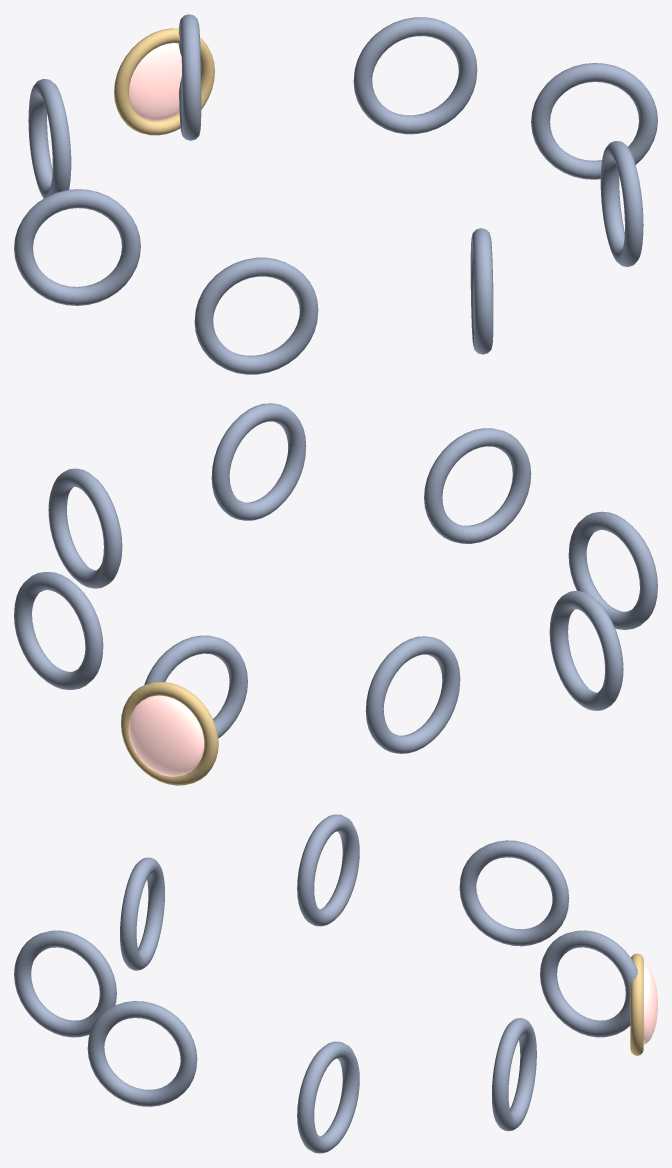
The model's file is chains.glb.
3 renders of one model, top to bottom at view 1: azimuth 30°, elevation 25°; view 2: azimuth 150°, elevation 25°; view 3: azimuth 270°, elevation 25°, orthographic. The views are drawn at different scales.
Visible parts, largest first — view 1: _MeshInstance3D_30, _MeshInstance3D_29, _MeshInstance3D_33, FloatingLink, _MeshInstance3D_27, _MeshInstance3D_31, GoldBezel, EnamelGem, _MeshInstance3D_28, _MeshInstance3D_32; view 2: _MeshInstance3D_28, _MeshInstance3D_31, _MeshInstance3D_27, _MeshInstance3D_33, EnamelGem, FloatingLink, _MeshInstance3D_30, _MeshInstance3D_29, _MeshInstance3D_32, GoldBezel; view 3: _MeshInstance3D_27, _MeshInstance3D_31, _MeshInstance3D_28, _MeshInstance3D_32, _MeshInstance3D_30, FloatingLink, _MeshInstance3D_29, _MeshInstance3D_33, GoldBezel, EnamelGem.
Part boxes in pixels (x1=…): _MeshInstance3D_30: x1=14, y1=189, x2=140, y2=305; _MeshInstance3D_29: x1=194, y1=257, x2=318, y2=374; _MeshInstance3D_33: x1=353, y1=17, x2=477, y2=134; FloatingLink: x1=531, y1=63, x2=657, y2=179; _MeshInstance3D_27: x1=600, y1=141, x2=643, y2=266; _MeshInstance3D_31: x1=28, y1=79, x2=71, y2=198; GoldBezel: x1=114, y1=28, x2=214, y2=135; EnamelGem: x1=129, y1=43, x2=181, y2=120; _MeshInstance3D_28: x1=470, y1=228, x2=493, y2=354; _MeshInstance3D_32: x1=178, y1=14, x2=201, y2=140; _MeshInstance3D_28: x1=424, y1=428, x2=531, y2=543; _MeshInstance3D_31: x1=365, y1=636, x2=460, y2=753; _MeshInstance3D_27: x1=211, y1=403, x2=306, y2=520; _MeshInstance3D_33: x1=14, y1=572, x2=103, y2=689; EnamelGem: x1=128, y1=695, x2=204, y2=776; FloatingLink: x1=48, y1=468, x2=122, y2=588; _MeshInstance3D_30: x1=549, y1=591, x2=623, y2=710; _MeshInstance3D_29: x1=568, y1=511, x2=657, y2=629; _MeshInstance3D_32: x1=144, y1=635, x2=247, y2=738; GoldBezel: x1=121, y1=682, x2=218, y2=785; _MeshInstance3D_27: x1=87, y1=1001, x2=197, y2=1106; _MeshInstance3D_31: x1=459, y1=840, x2=569, y2=946; _MeshInstance3D_28: x1=14, y1=930, x2=116, y2=1037; _MeshInstance3D_32: x1=540, y1=930, x2=637, y2=1037; _MeshInstance3D_30: x1=297, y1=814, x2=359, y2=926; FloatingLink: x1=297, y1=1041, x2=359, y2=1153; _MeshInstance3D_29: x1=120, y1=857, x2=164, y2=970; _MeshInstance3D_33: x1=492, y1=1018, x2=536, y2=1131; GoldBezel: x1=630, y1=953, x2=643, y2=1055; EnamelGem: x1=643, y1=965, x2=657, y2=1044.
Size of the model in its own units: 0.112 by 0.025 by 0.1127.
